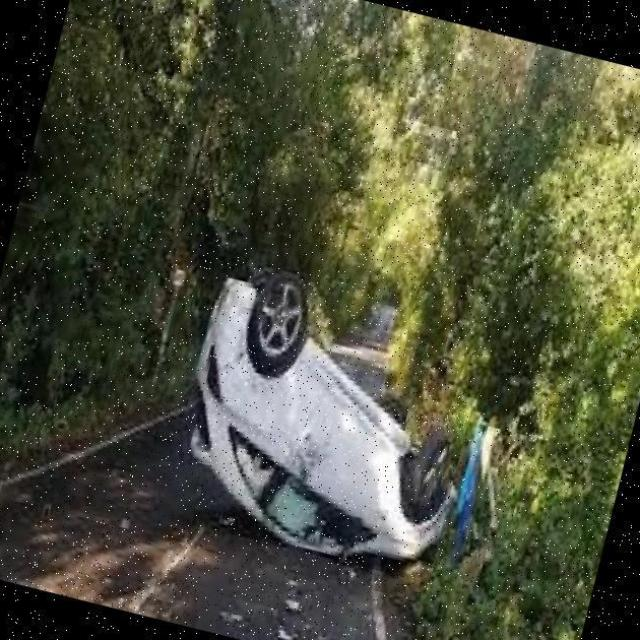accident: (144, 250, 508, 590)
